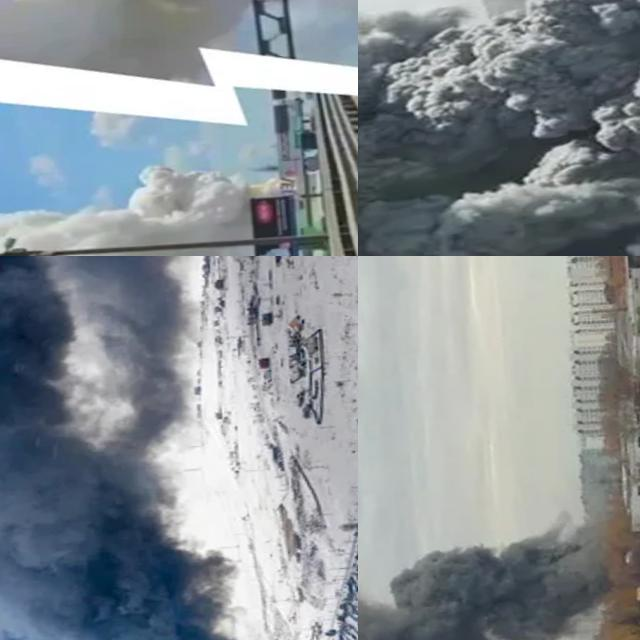smoke: (0, 256, 358, 640), (358, 0, 640, 256), (358, 504, 622, 640), (0, 154, 294, 256), (0, 0, 358, 64)
